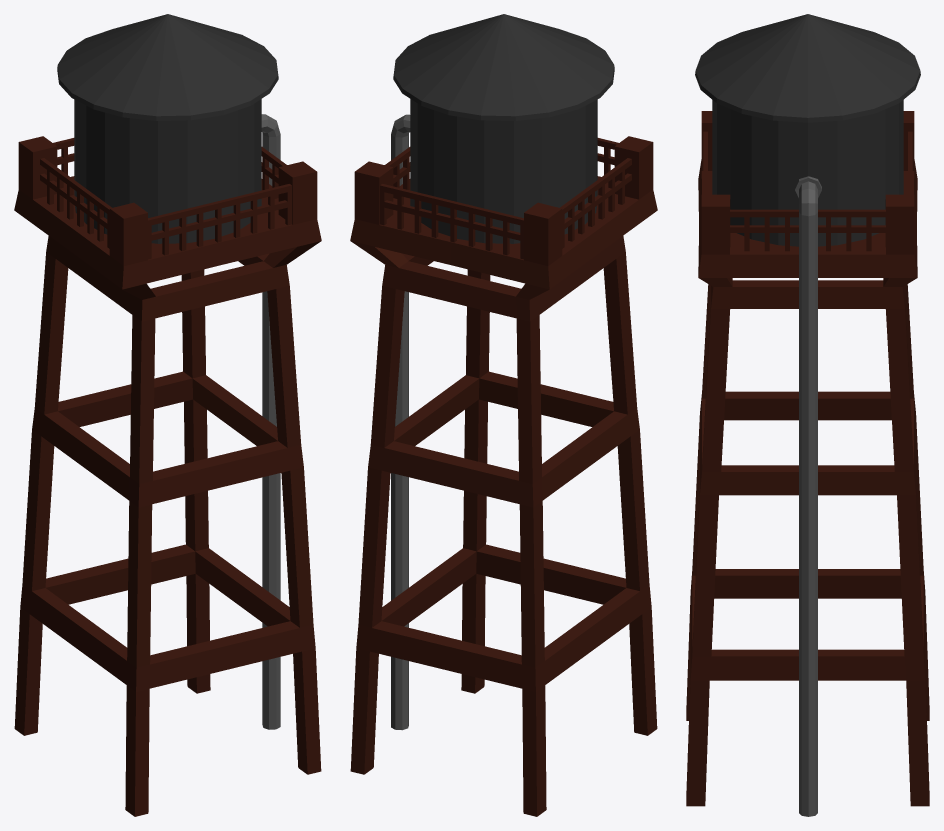
The model's file is WaterTower.fbx.
3 renders of one model, left to right at view 1: azimuth 30°, elevation 25°; view 2: azimuth 150°, elevation 25°; view 3: azimuth 270°, elevation 25°, orthographic.
Parts seen in each view (by area): view 1: WaterTower; view 2: WaterTower; view 3: WaterTower.
Part boxes in pixels (x1,y1,x2,y2): WaterTower: (14,14,321,816); WaterTower: (350,14,657,816); WaterTower: (686,14,929,816).
Bounding box in the file's own units: 2.53 × 8.43 × 2.49.
